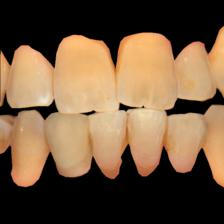cavity: (137, 162, 157, 176), (86, 136, 98, 154), (123, 127, 133, 146), (104, 168, 121, 179), (201, 135, 209, 151), (163, 131, 170, 148), (1, 137, 6, 154)
tooth: (114, 34, 178, 110), (57, 34, 119, 111), (127, 109, 171, 177), (45, 111, 90, 177), (10, 108, 47, 188), (87, 113, 129, 178), (13, 45, 54, 108), (168, 114, 209, 173), (175, 37, 212, 101), (207, 103, 224, 190)
